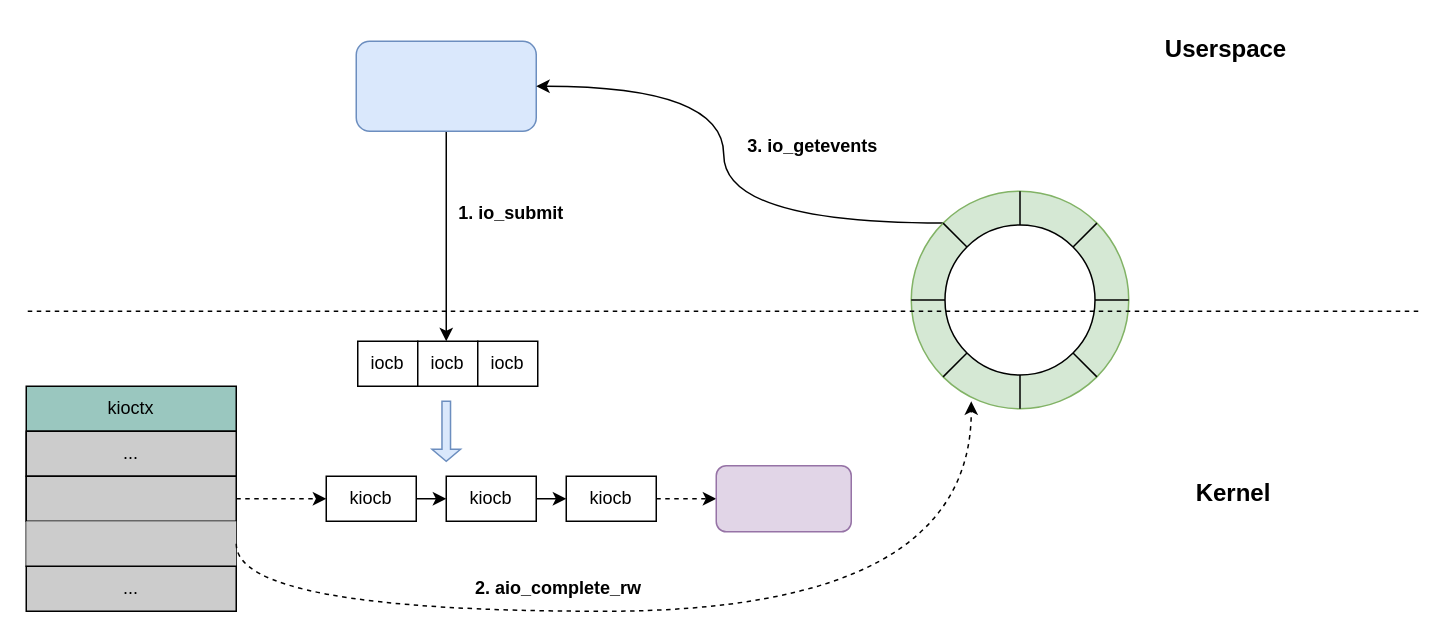
The diagram is 1451 pixels wide and 638 high, and some of its shapes have lost their labels. Each missing label, with the centre of its shape:
"active_reqs" belongs at point (130, 498).
"aio_ring_info" belongs at point (1019, 299).
"App" belongs at point (445, 85).
"ring_info" belongs at point (131, 543).
"submit_bio" belongs at point (783, 498).
